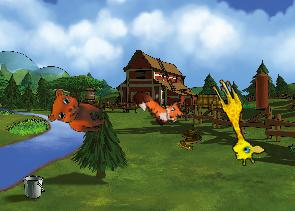bear: (47, 88, 108, 133)
fox: (130, 74, 191, 135)
giraffe: (200, 75, 268, 169)
